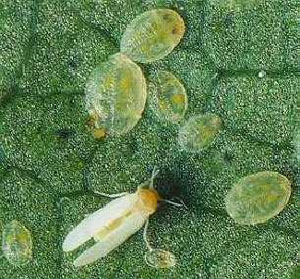whitefly: (62, 162, 181, 267)
